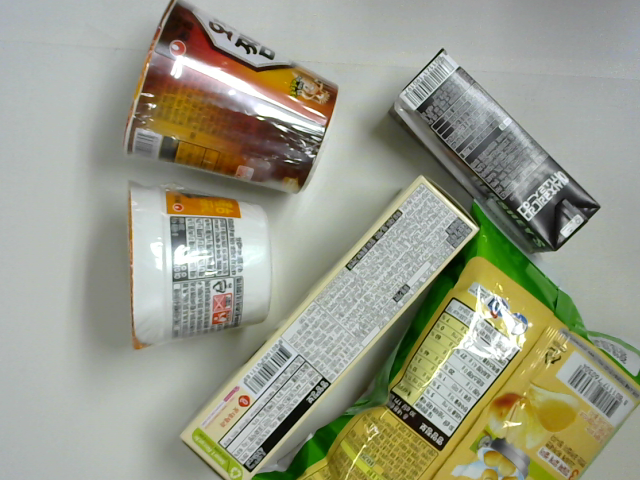Chicchok_Tiramisu: (165, 177, 479, 480)
Hush_Choco_Drink: (382, 37, 598, 259)
Ojjam: (116, 8, 348, 178)
Pocachip_Onion: (356, 247, 621, 480)
Udongmini: (130, 177, 282, 341)
